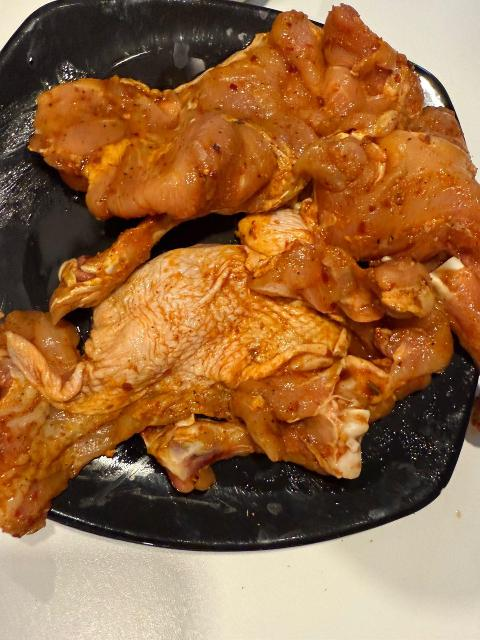Organik: (4, 257, 403, 515), (29, 68, 423, 212), (319, 133, 480, 243), (41, 216, 169, 315)
